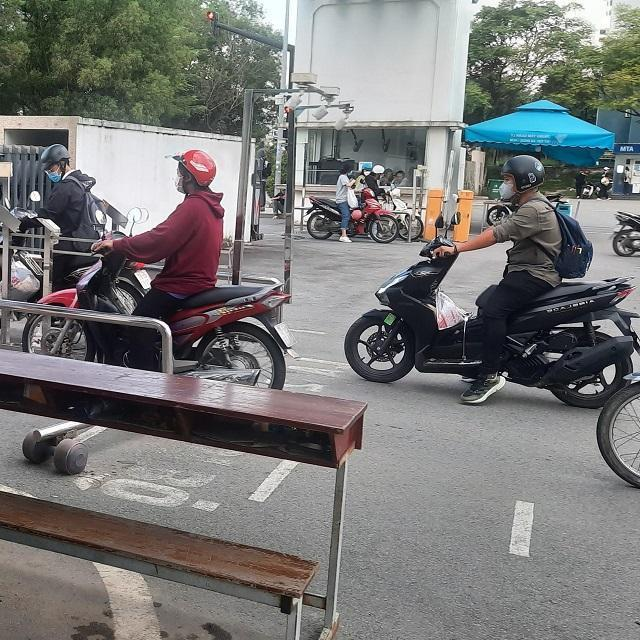Helmet: (166, 148, 214, 196), (496, 154, 544, 202), (40, 145, 72, 183)
